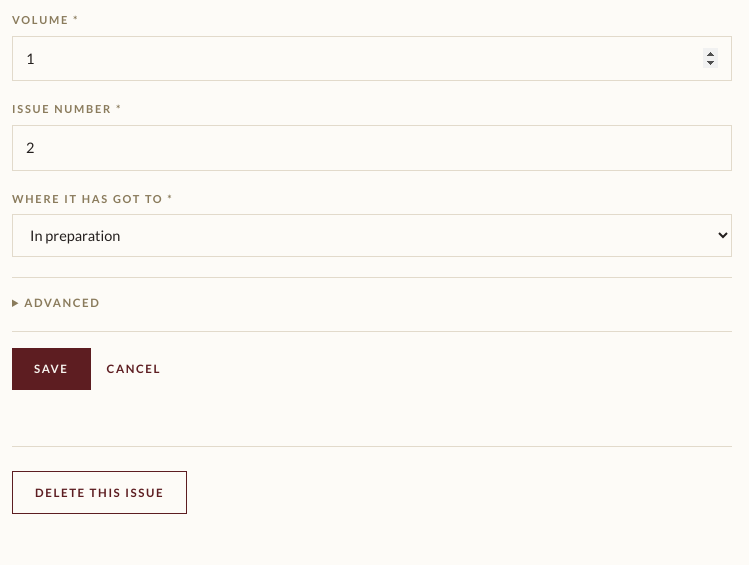
RecordForm chrome › asks before deleting rather than doing it on one click
Step 1. Click the button "Delete this issue" → (100, 492), box [12, 470, 187, 514]
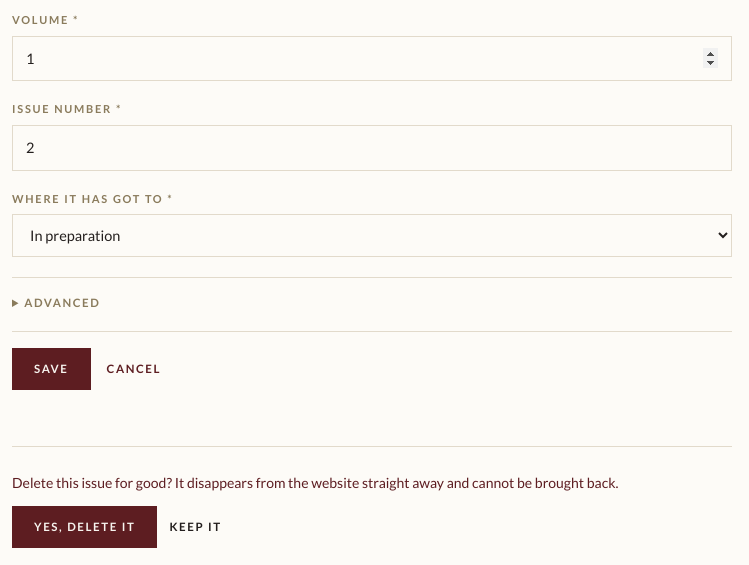
Expected: the text "cannot be brought back" is shown, [112, 474, 618, 490]
Expected: the button "Yes, delete it" is shown, [12, 506, 157, 548]
